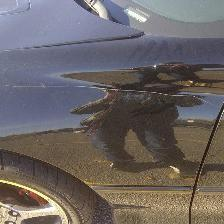door_scratch: (14, 51, 224, 127)
